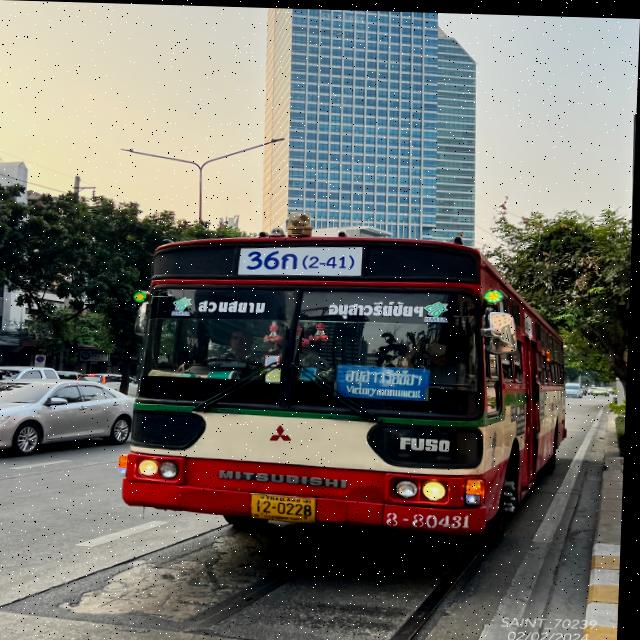BMTA-bus: (119, 227, 574, 539)
Bus-Line-Number: (238, 247, 368, 273)
Destination-Sign-Normal: (341, 360, 435, 400)
